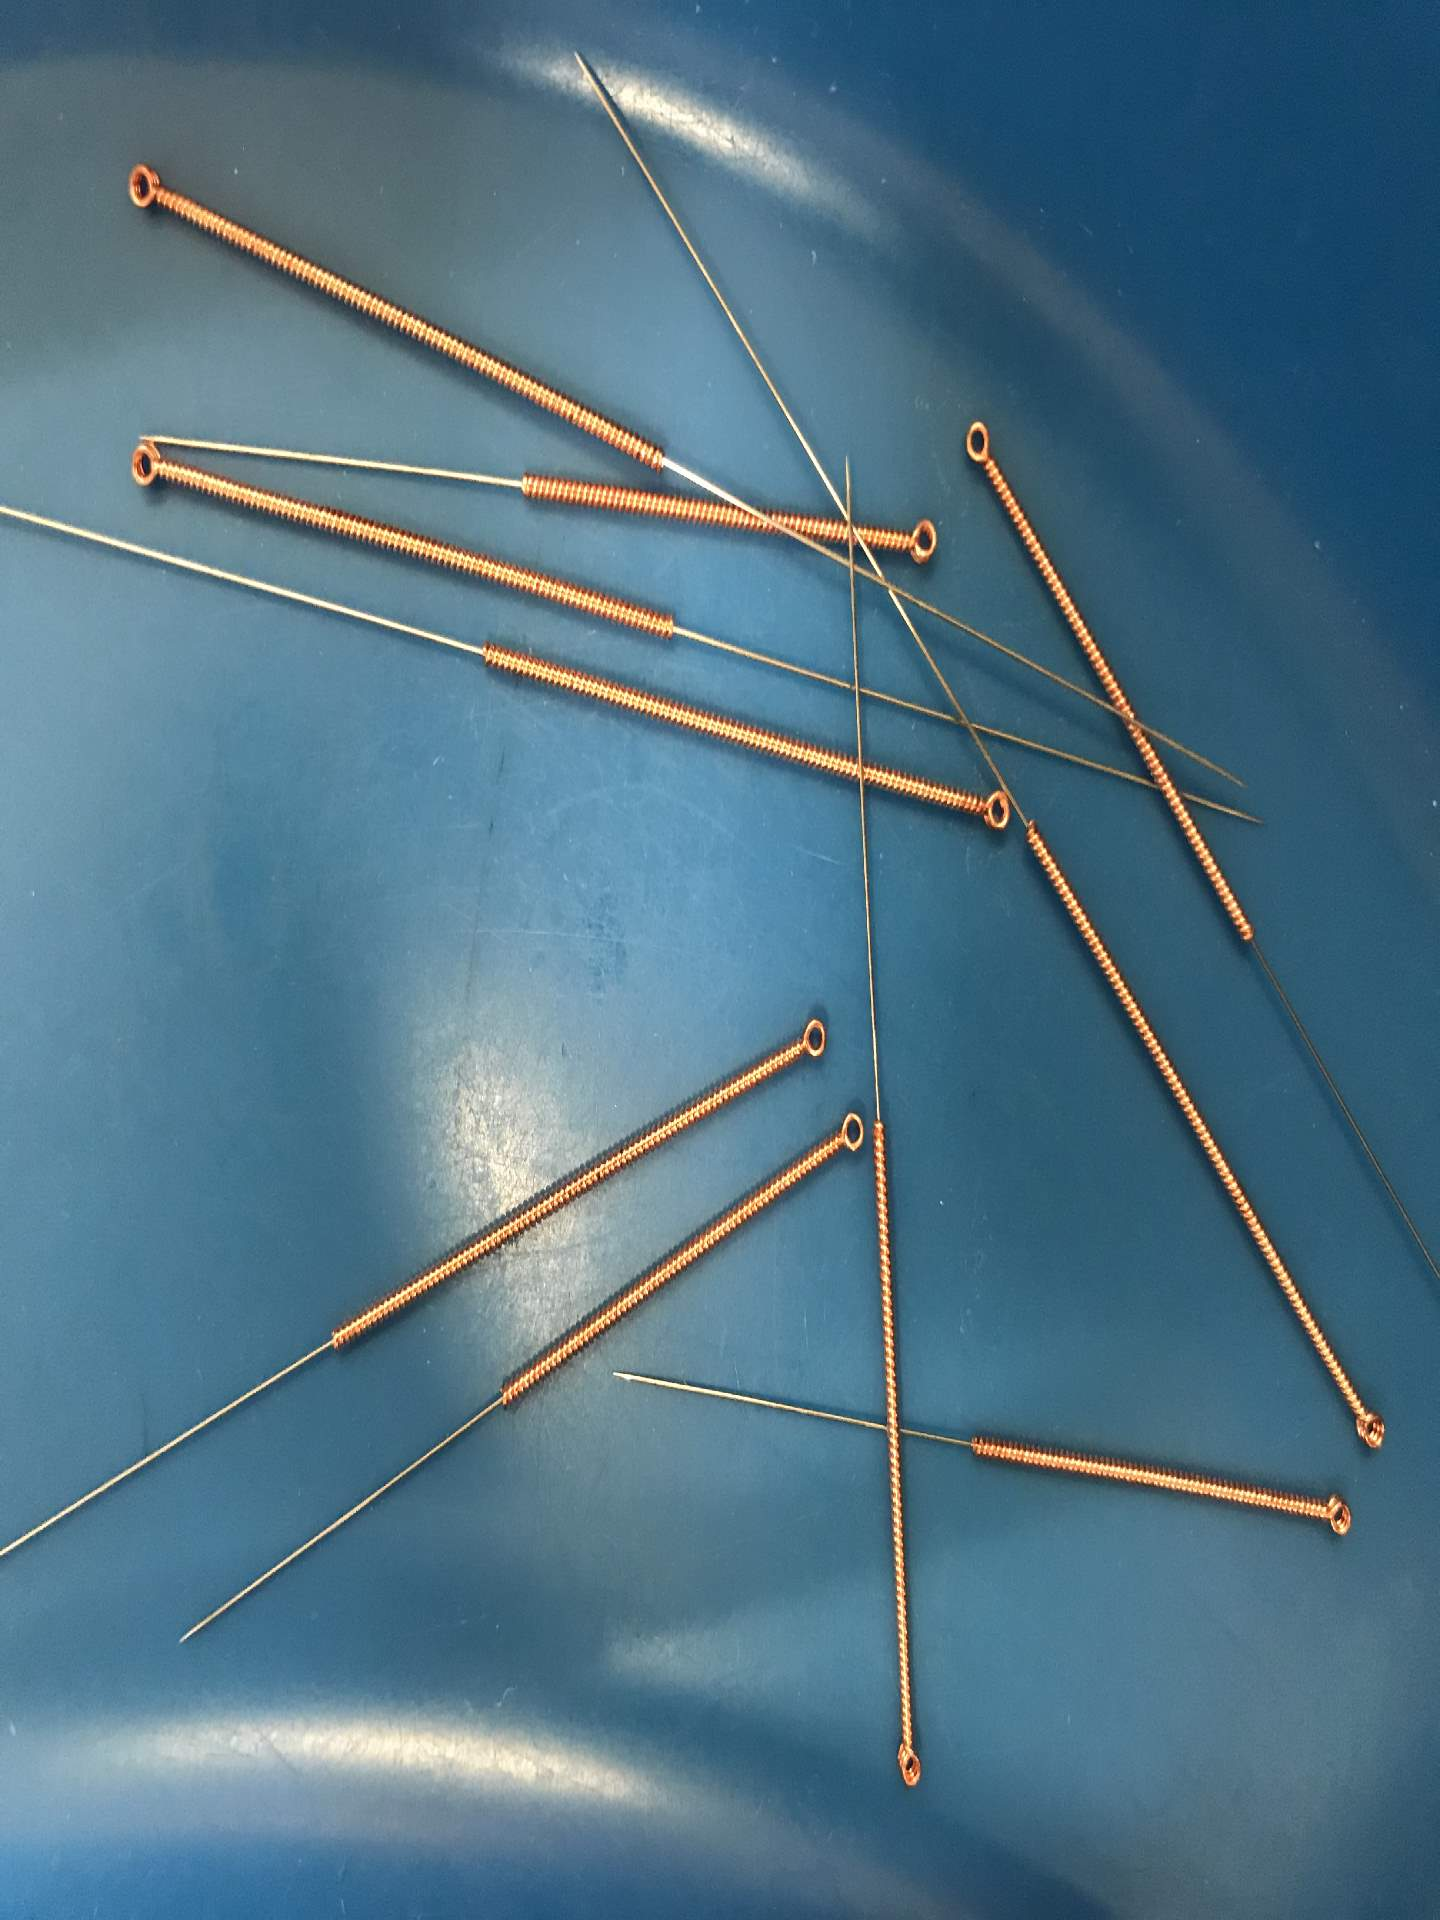needle: (106, 150, 182, 224), (950, 773, 1019, 850), (1298, 1477, 1366, 1554), (880, 1713, 936, 1804), (113, 429, 182, 503), (1334, 1382, 1395, 1463), (777, 999, 843, 1073), (951, 402, 1004, 491), (886, 506, 951, 579), (818, 1098, 871, 1175)
